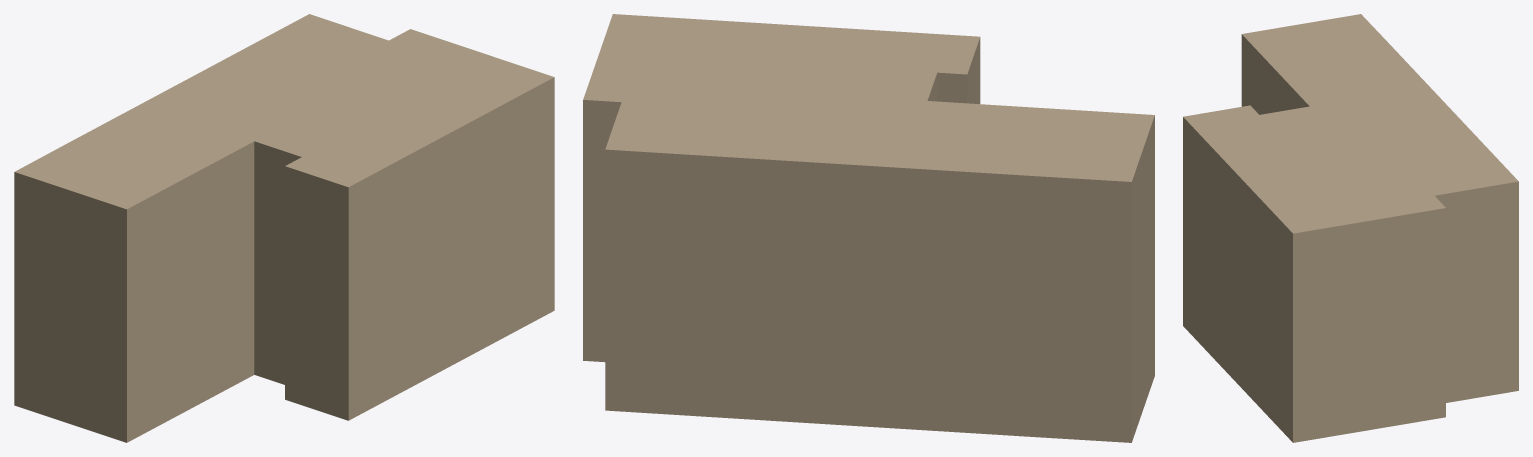
File: bld_107715973.dae
The picture shows the model from 3 angles, left to right: view 1: azimuth 30°, elevation 25°; view 2: azimuth 150°, elevation 25°; view 3: azimuth 270°, elevation 25°; orthographic projection. The views are drawn at different scales.
Parts seen in each view (by area): view 1: bld_107715973; view 2: bld_107715973; view 3: bld_107715973.
Part boxes in pixels (<box>): bld_107715973: <box>14,14,554,442</box>; bld_107715973: <box>583,14,1154,442</box>; bld_107715973: <box>1183,14,1518,442</box>.
Bounding box in the file's own units: 18.01 × 11.64 × 8.
